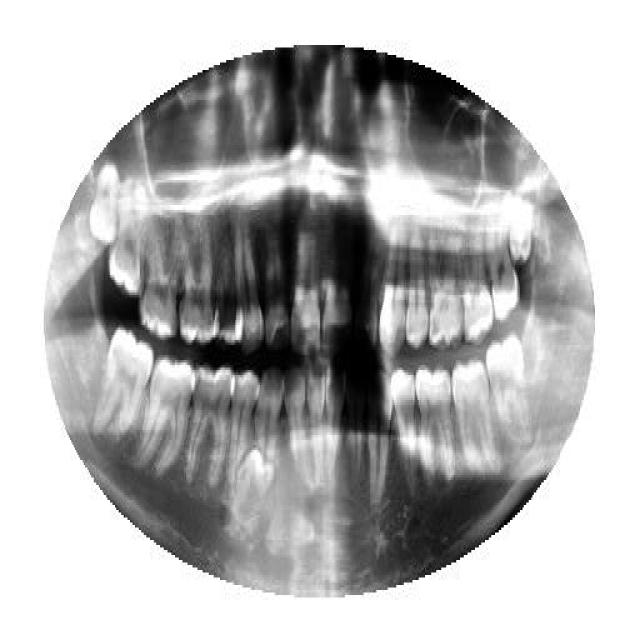Impacted Tooth: (86, 160, 120, 248)
